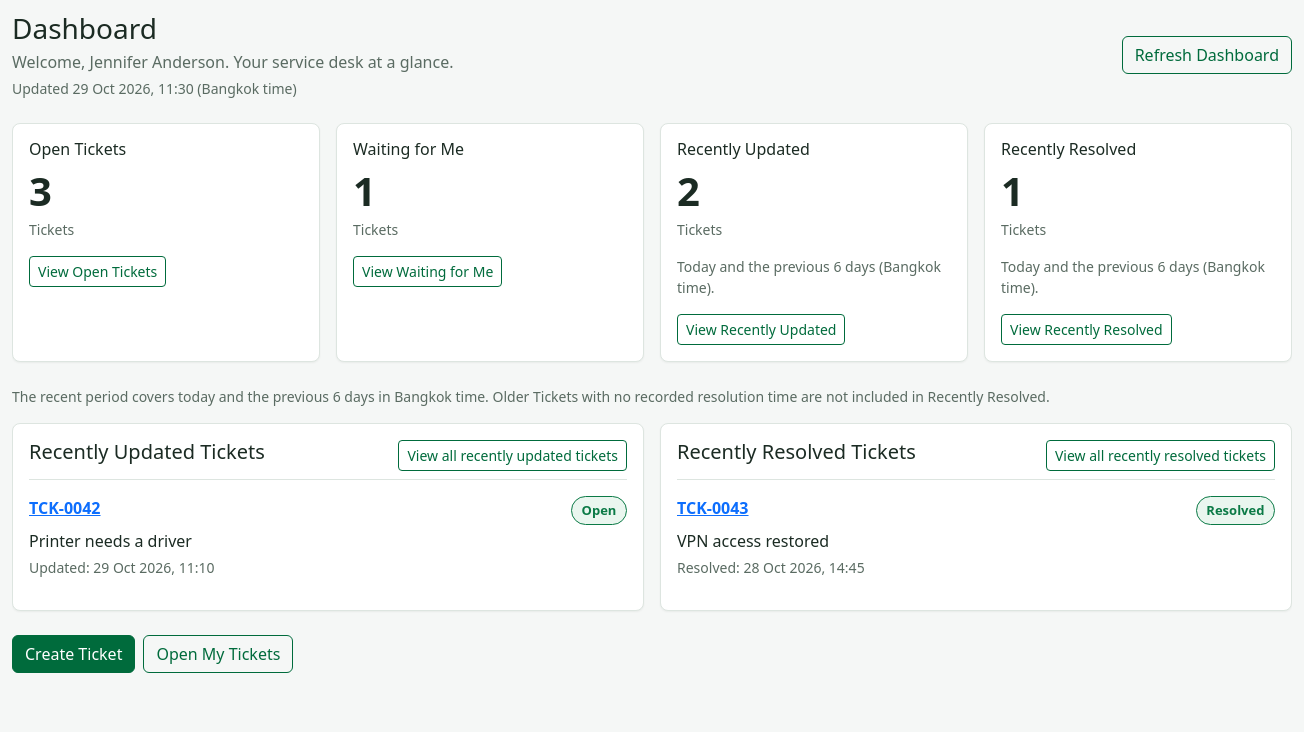
Scenario: Issue 90 Requester Dashboard › clears a forbidden response instead of retaining the previous user's dashboard
expect the link "TCK-0042" is shown: met, box [29,496,100,520]
What coordinates should you click on to do the following:
click the button "Refresh Dashboard"
I would click on:
 (1207, 55)
Its box is [1122,36,1292,74].
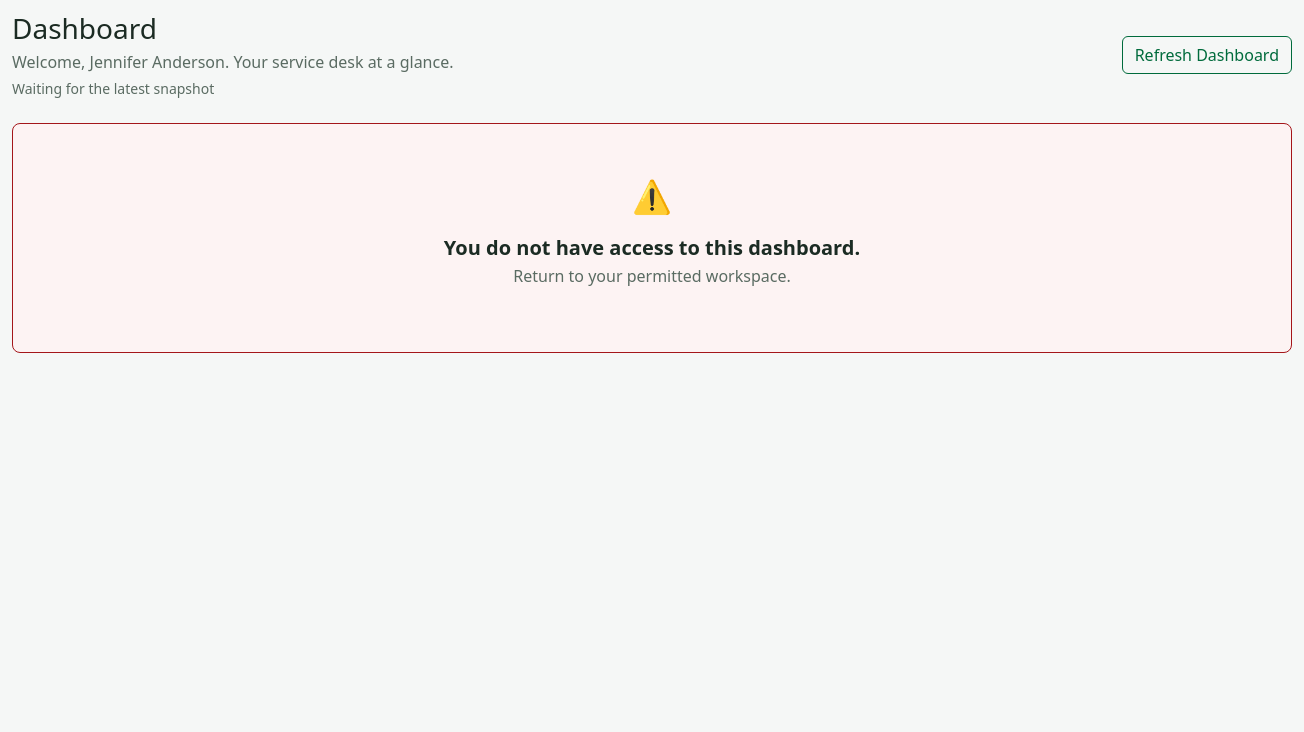
expect the heading "You do not have access to this dashboard." is shown: met, box [444,234,860,261]
expect the link "TCK-0042" is gone: met
expect the text with test id "dashboard-as-of" reads "Waiting for the latest snapshot": met, box [12,79,214,98]
